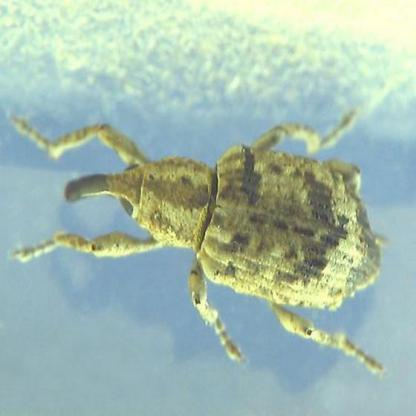rice-bug: (63, 110, 391, 324)
